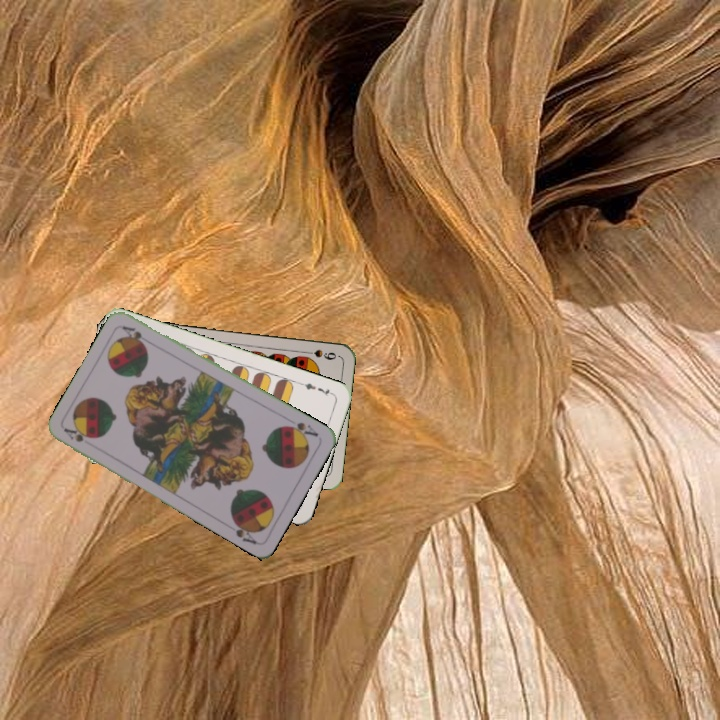E7: (297, 379, 336, 399)
S9: (299, 345, 339, 362)
SA: (282, 418, 321, 441), (60, 424, 95, 445)
